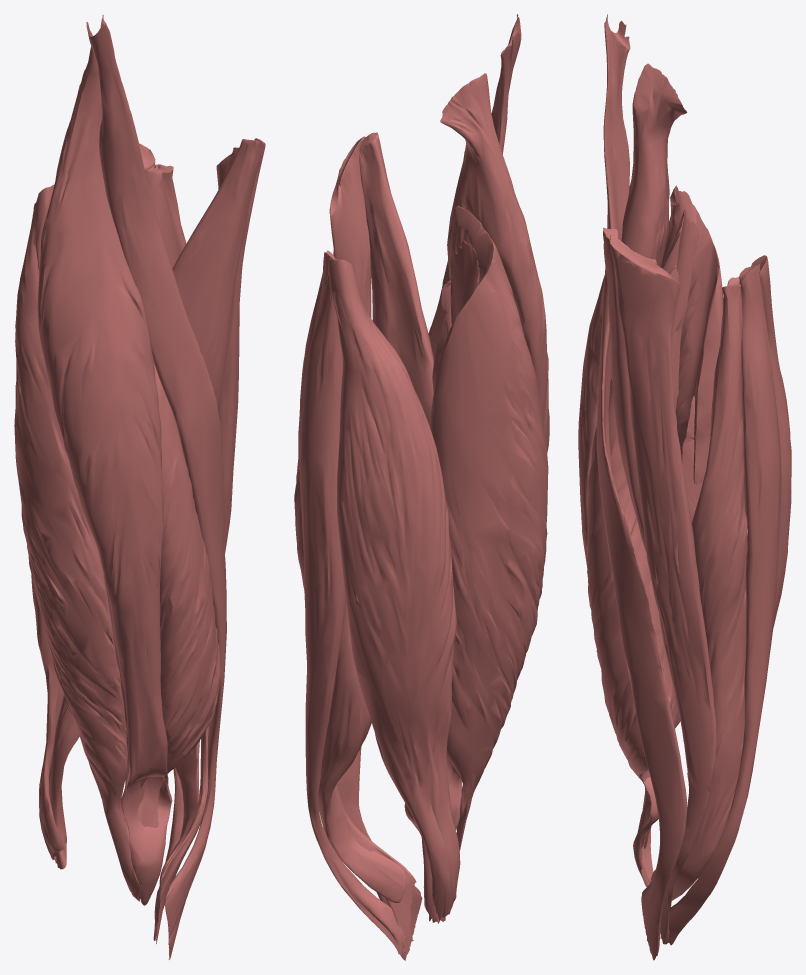
The model's file is muscular-thigh-right.glb.
3 views of the same model, side by side, from view 1: azimuth 30°, elevation 25°; view 2: azimuth 150°, elevation 25°; view 3: azimuth 270°, elevation 25° (orthographic). The views are drawn at different scales.
Visible parts, largest first — view 1: bp3d_FMA38928_FJ1433, bp3d_FMA38930_FJ1442, bp3d_FMA22354_FJ1434, bp3d_FMA38932_FJ1443, bp3d_FMA22456_FJ1402, bp3d_FMA43883_FJ1421, bp3d_FMA22448_FJ1435, bp3d_FMA45888_FJ1395, bp3d_FMA45891_FJ1444, bp3d_FMA22358_FJ1436, bp3d_FMA38934_FJ1441; view 2: bp3d_FMA45888_FJ1395, bp3d_FMA38930_FJ1442, bp3d_FMA22358_FJ1436, bp3d_FMA38928_FJ1433, bp3d_FMA22448_FJ1435, bp3d_FMA22456_FJ1402, bp3d_FMA43883_FJ1421, bp3d_FMA22354_FJ1434, bp3d_FMA38934_FJ1441, bp3d_FMA38932_FJ1443, bp3d_FMA45891_FJ1444; view 3: bp3d_FMA43883_FJ1421, bp3d_FMA22448_FJ1435, bp3d_FMA22354_FJ1434, bp3d_FMA22358_FJ1436, bp3d_FMA38928_FJ1433, bp3d_FMA38932_FJ1443, bp3d_FMA38930_FJ1442, bp3d_FMA22456_FJ1402, bp3d_FMA45888_FJ1395, bp3d_FMA38934_FJ1441, bp3d_FMA45891_FJ1444.
Part boxes in pixels (<box>): bp3d_FMA38928_FJ1433: <box>37,46,172,905</box>; bp3d_FMA38930_FJ1442: <box>14,184,140,901</box>; bp3d_FMA22354_FJ1434: <box>86,14,226,959</box>; bp3d_FMA38932_FJ1443: <box>138,363,220,827</box>; bp3d_FMA22456_FJ1402: <box>172,139,261,405</box>; bp3d_FMA43883_FJ1421: <box>156,138,265,943</box>; bp3d_FMA22448_FJ1435: <box>145,164,199,888</box>; bp3d_FMA45888_FJ1395: <box>28,556,64,863</box>; bp3d_FMA45891_FJ1444: <box>49,694,79,869</box>; bp3d_FMA22358_FJ1436: <box>139,143,183,940</box>; bp3d_FMA38934_FJ1441: <box>103,573,147,840</box>; bp3d_FMA45888_FJ1395: <box>328,259,460,923</box>; bp3d_FMA38930_FJ1442: <box>429,206,548,851</box>; bp3d_FMA22358_FJ1436: <box>299,252,405,955</box>; bp3d_FMA38928_FJ1433: <box>404,73,549,836</box>; bp3d_FMA22448_FJ1435: <box>294,250,406,903</box>; bp3d_FMA22456_FJ1402: <box>359,132,433,425</box>; bp3d_FMA43883_FJ1421: <box>329,136,416,953</box>; bp3d_FMA22354_FJ1434: <box>337,14,521,960</box>; bp3d_FMA38934_FJ1441: <box>446,240,479,829</box>; bp3d_FMA38932_FJ1443: <box>432,280,451,393</box>; bp3d_FMA45891_FJ1444: <box>421,784,450,922</box>; bp3d_FMA43883_FJ1421: <box>610,234,716,944</box>; bp3d_FMA22448_FJ1435: <box>671,276,747,900</box>; bp3d_FMA22354_FJ1434: <box>596,14,687,960</box>; bp3d_FMA22358_FJ1436: <box>668,264,781,945</box>; bp3d_FMA38928_FJ1433: <box>578,63,687,887</box>; bp3d_FMA38932_FJ1443: <box>587,265,678,848</box>; bp3d_FMA38930_FJ1442: <box>641,185,723,882</box>; bp3d_FMA22456_FJ1402: <box>603,227,646,553</box>; bp3d_FMA45888_FJ1395: <box>710,255,791,629</box>; bp3d_FMA38934_FJ1441: <box>641,210,699,848</box>; bp3d_FMA45891_FJ1444: <box>682,396,702,522</box>.
Bounding box in the file's own units: 0.1476 × 0.6276 × 0.1342.
